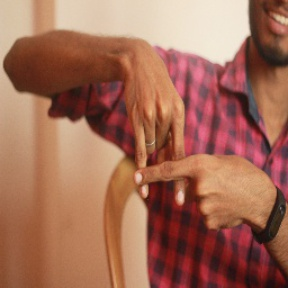H: (113, 100, 217, 207)
